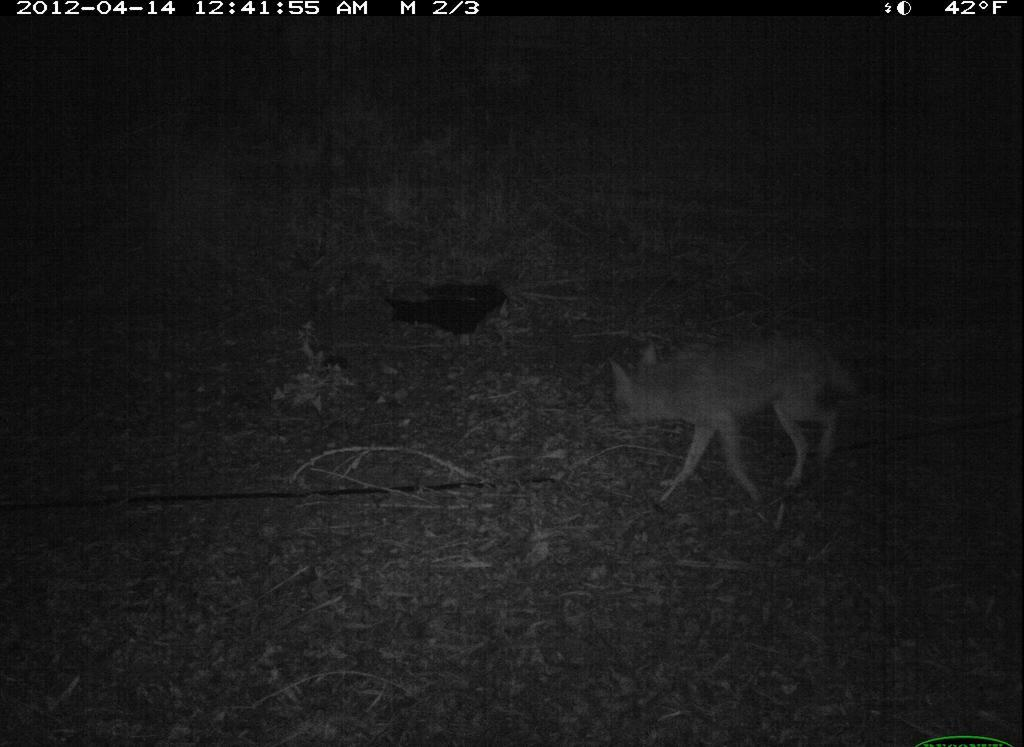coyote: (588, 322, 857, 507)
